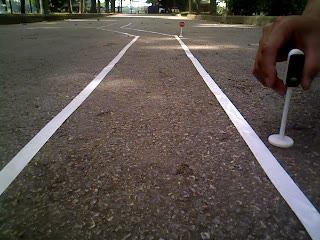Blue: (287, 52, 302, 89)
